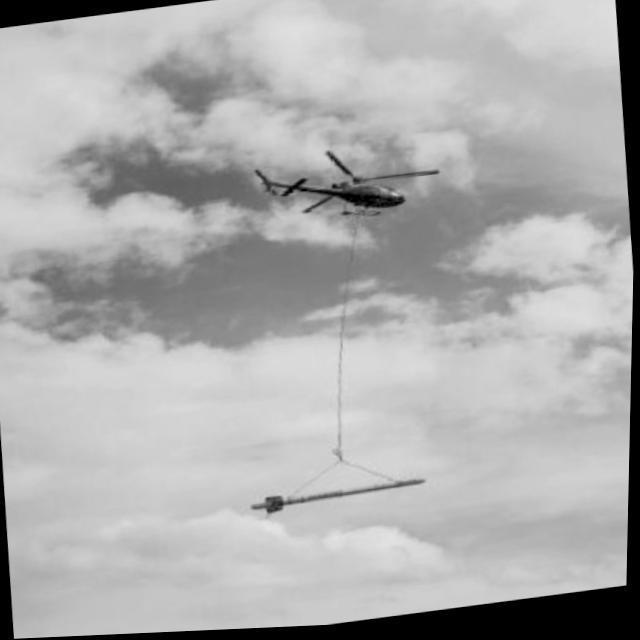helikopter: (247, 133, 453, 242)
